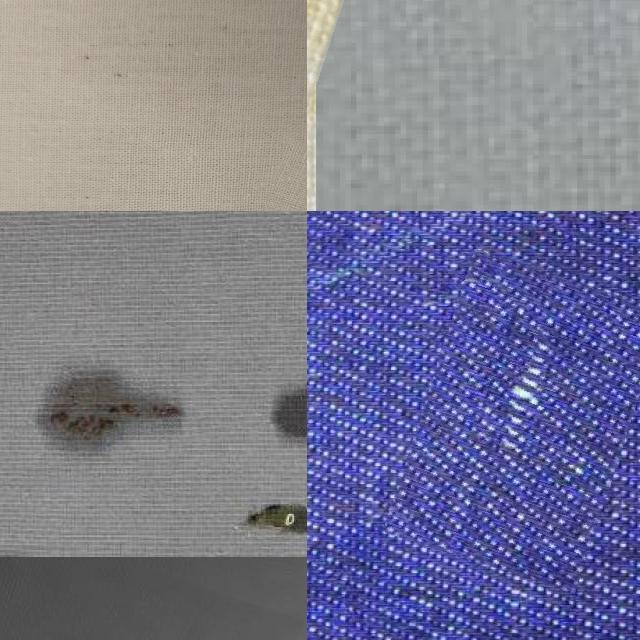Thread_other: (8, 314, 212, 484), (82, 576, 290, 640), (238, 322, 307, 462), (223, 484, 307, 556)
stains: (404, 259, 640, 580)
